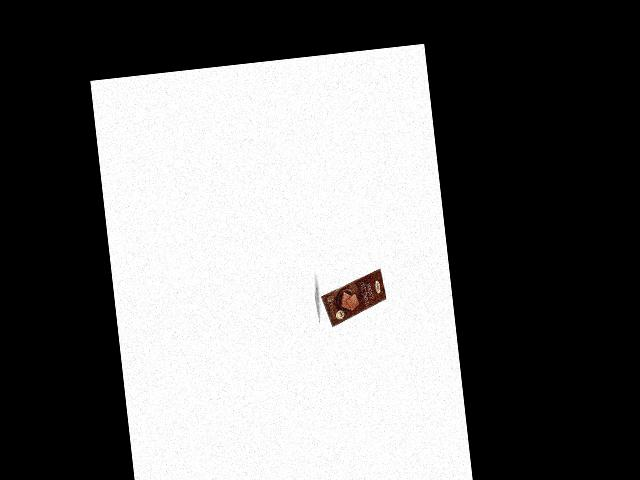chocolate: (315, 267, 390, 330)
